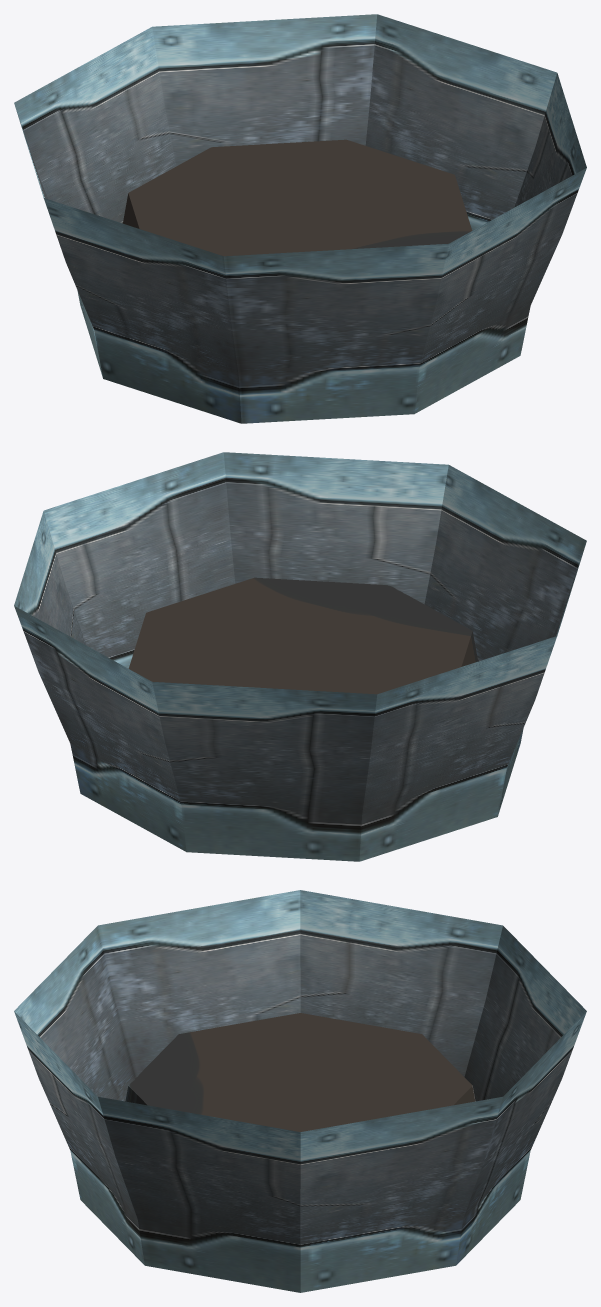
The model's file is vfxsousplateforme.fbx.
3 views of the same model, one above another, from view 1: azimuth 30°, elevation 25°; view 2: azimuth 150°, elevation 25°; view 3: azimuth 270°, elevation 25° (orthographic). The views are drawn at different scales.
Visible parts, largest first — view 1: pCylinder1; view 2: pCylinder1; view 3: pCylinder1.
Part boxes in pixels (x1,y1,x2,y2): pCylinder1: (14,14,586,423); pCylinder1: (14,452,586,861); pCylinder1: (14,890,586,1292).
Size of the model in its own units: 27.36 by 9.95 by 27.36.
1 material, 1 textured.
